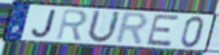0: (179, 15, 206, 49)
E: (144, 13, 181, 48)
J: (30, 9, 58, 39)
R: (113, 11, 150, 47), (55, 8, 89, 42)
U: (85, 9, 122, 45)
